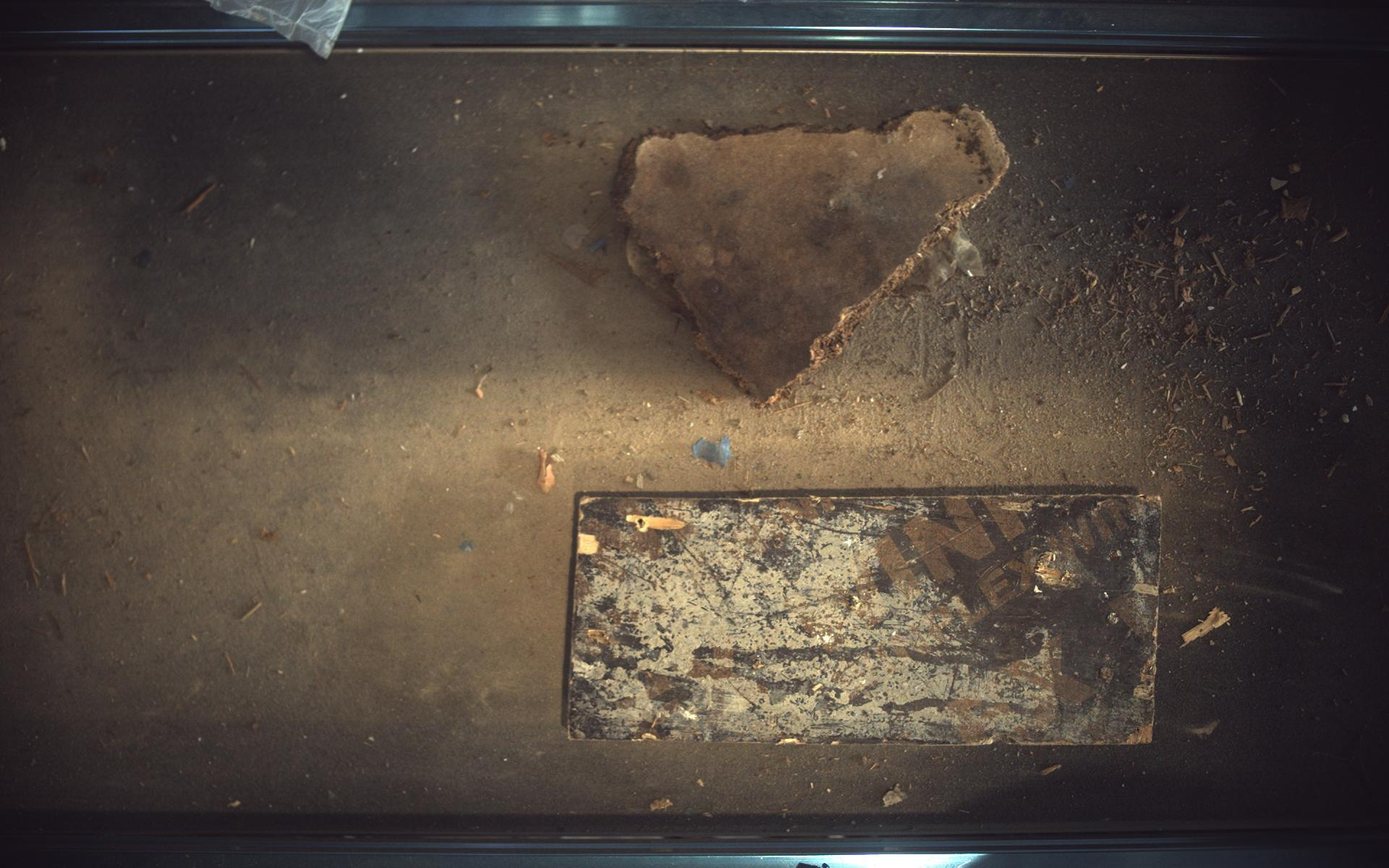wood: (566, 489, 1163, 746), (616, 106, 1012, 404)
